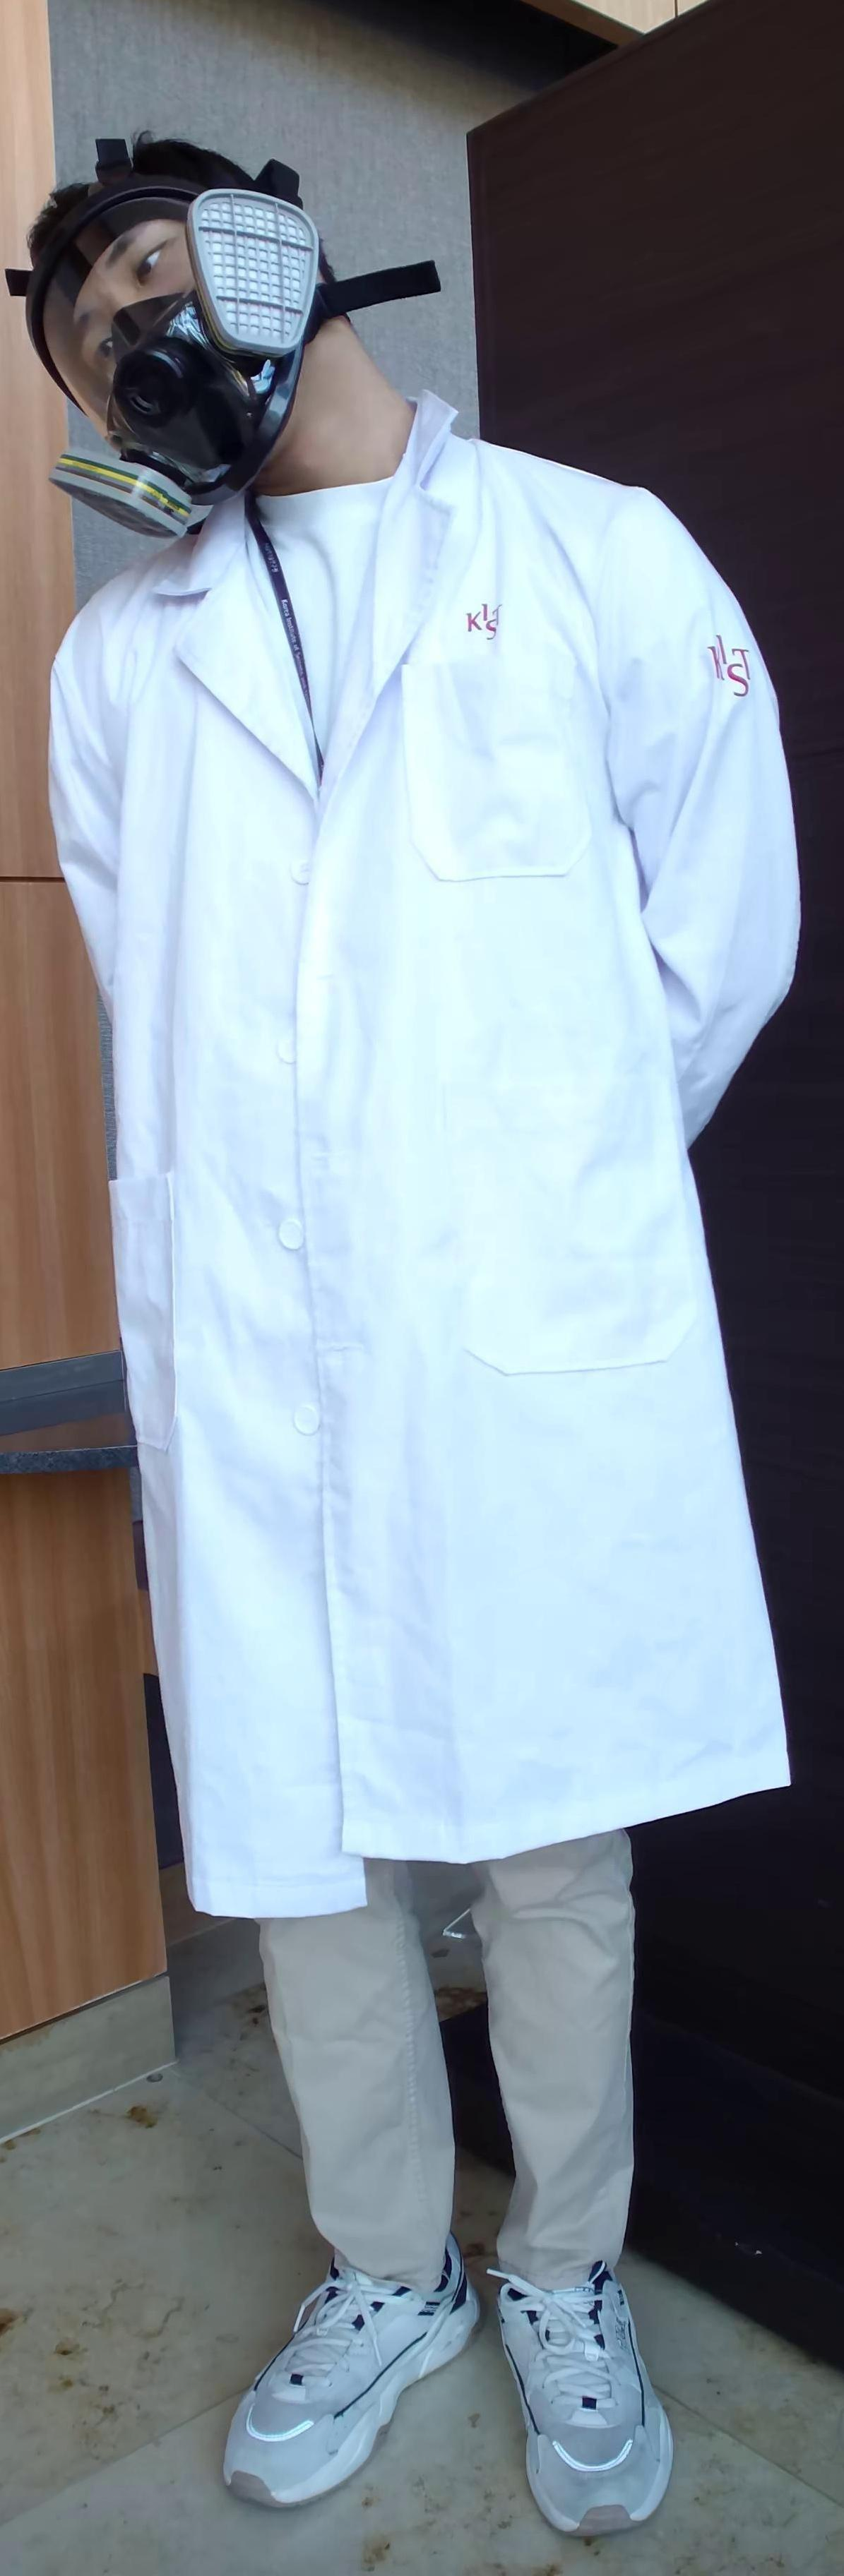lab_coat: (0, 531, 844, 1852)
